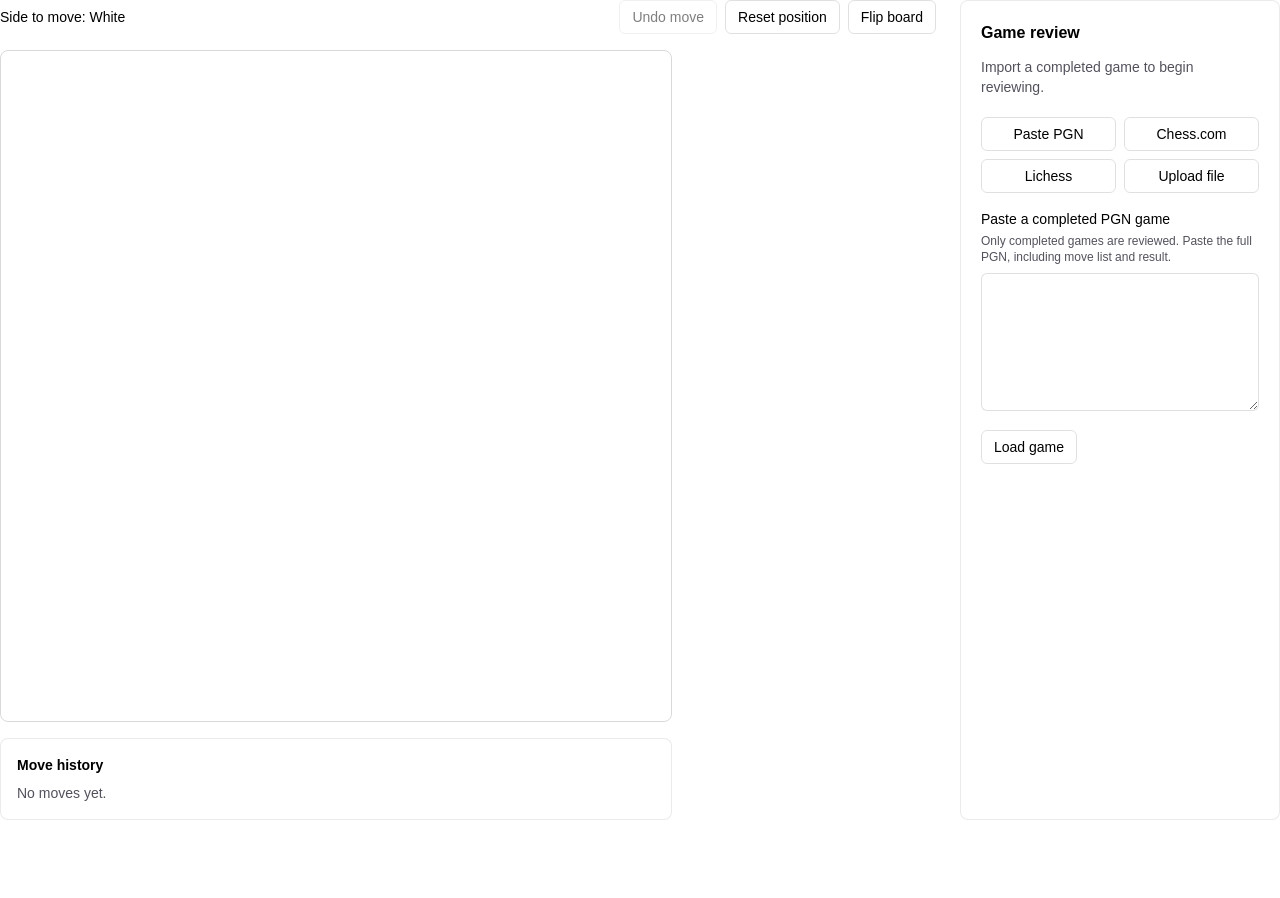
Scenario: ReviewWorkspace › uses graceful fallback text when headers are missing
Type "1. e4 e5 2. Nf3 Nc6 *" into the text box labelled "Paste a completed PGN game" at (1120, 342), box [981,273,1259,411]
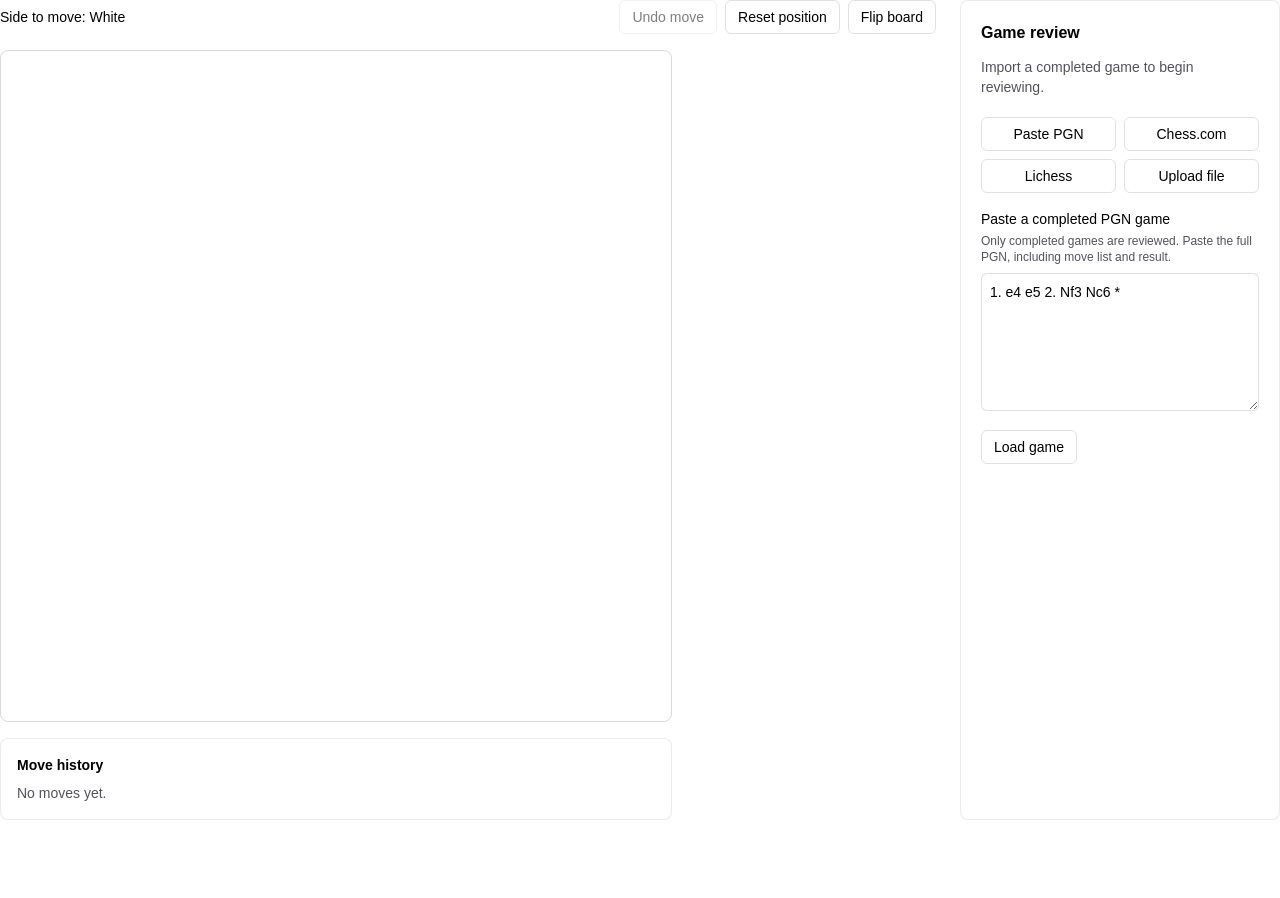
Click the button "Load game" at (1029, 447), box [981,430,1077,464]
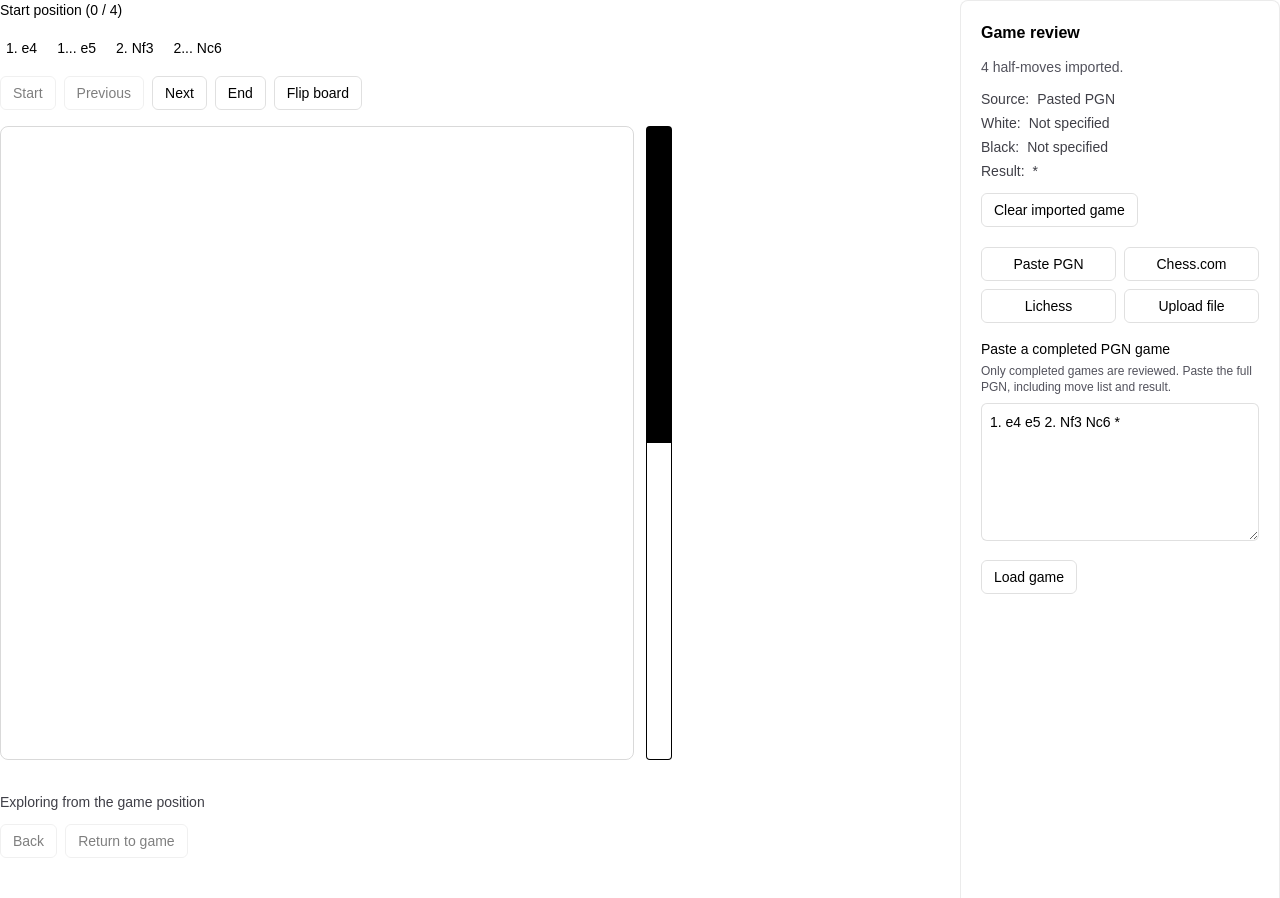
Now the text "White:" is shown, box [981,113,1021,133]
Now the text "Not specified" is shown 2 times, box [1029,113,1110,133]; [1027,137,1108,157]
Now the text "Black:" is shown, box [981,137,1019,157]
